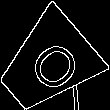O_SW: (14, 31, 79, 98)
